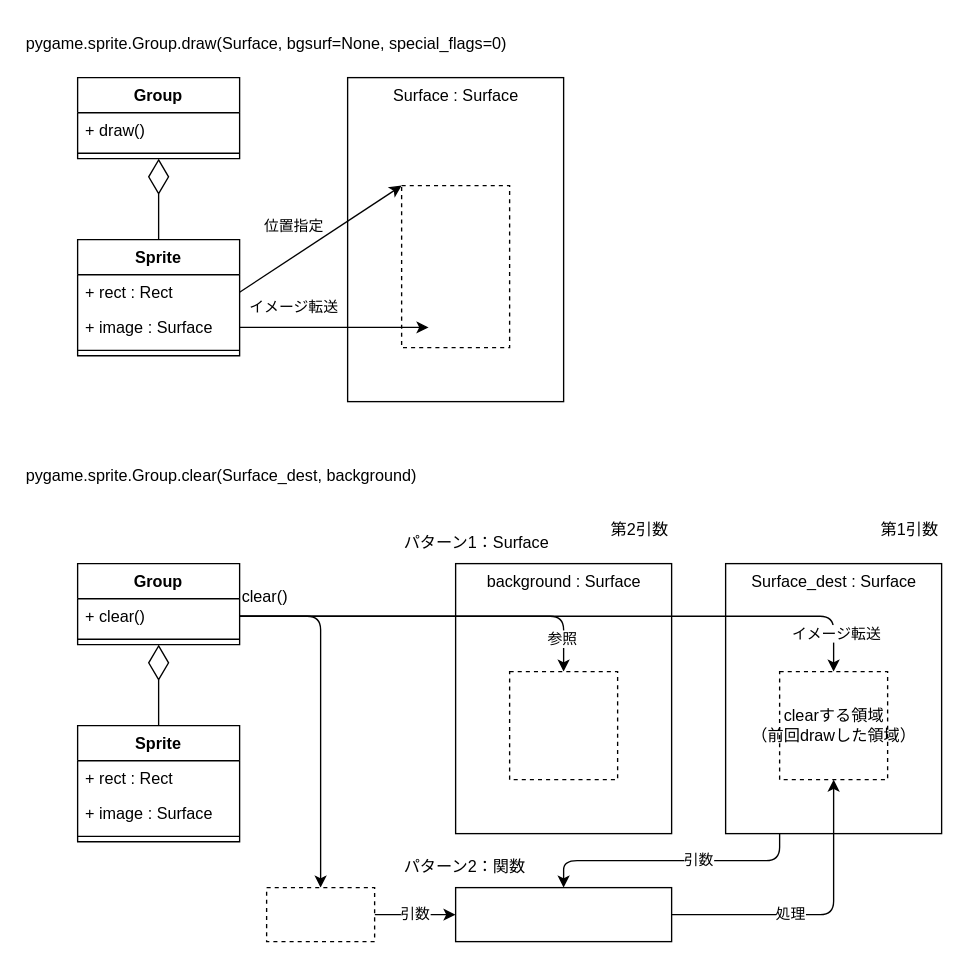
This 965x965 diagram has some shape labels left out. Each missing label, with the centre of its shape:
background : def clear_callback(surf, rect): the point at 563,914
rectの領域に imageを描画: the point at 455,266
前回drawした 領域: the point at 320,914
転送元領域 （前回drawした領域）: the point at 563,725
